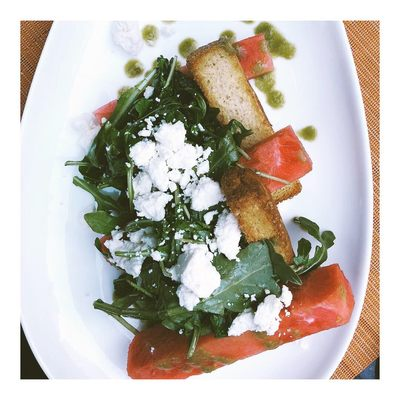pizza: (238, 125, 313, 184)
